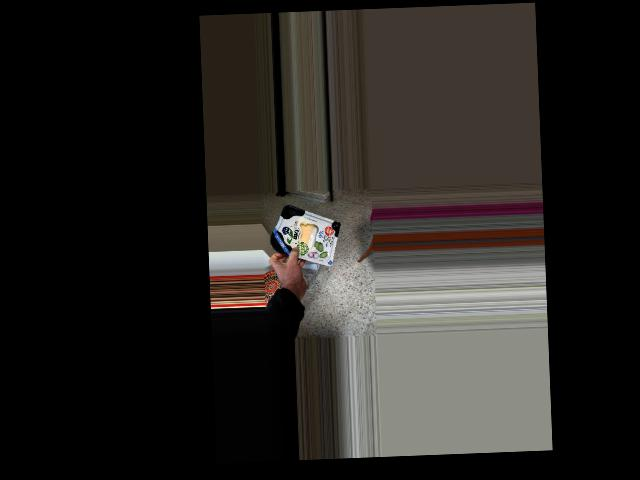cheese: (271, 212, 340, 262)
